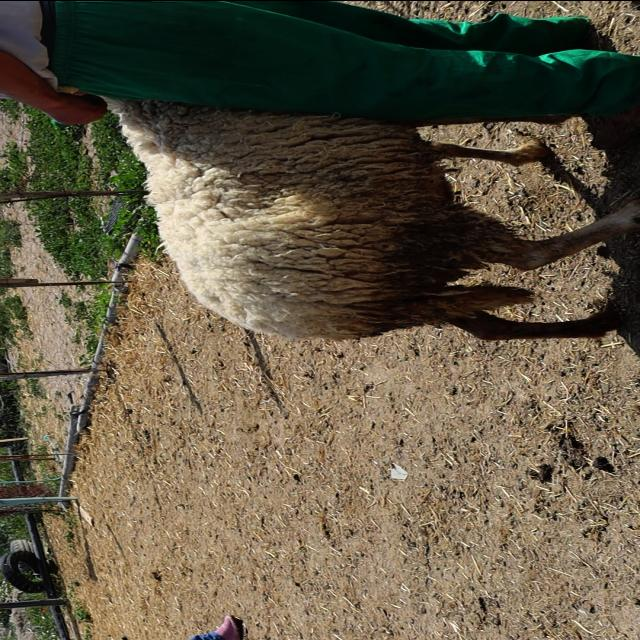Score_4: (104, 97, 639, 339)
